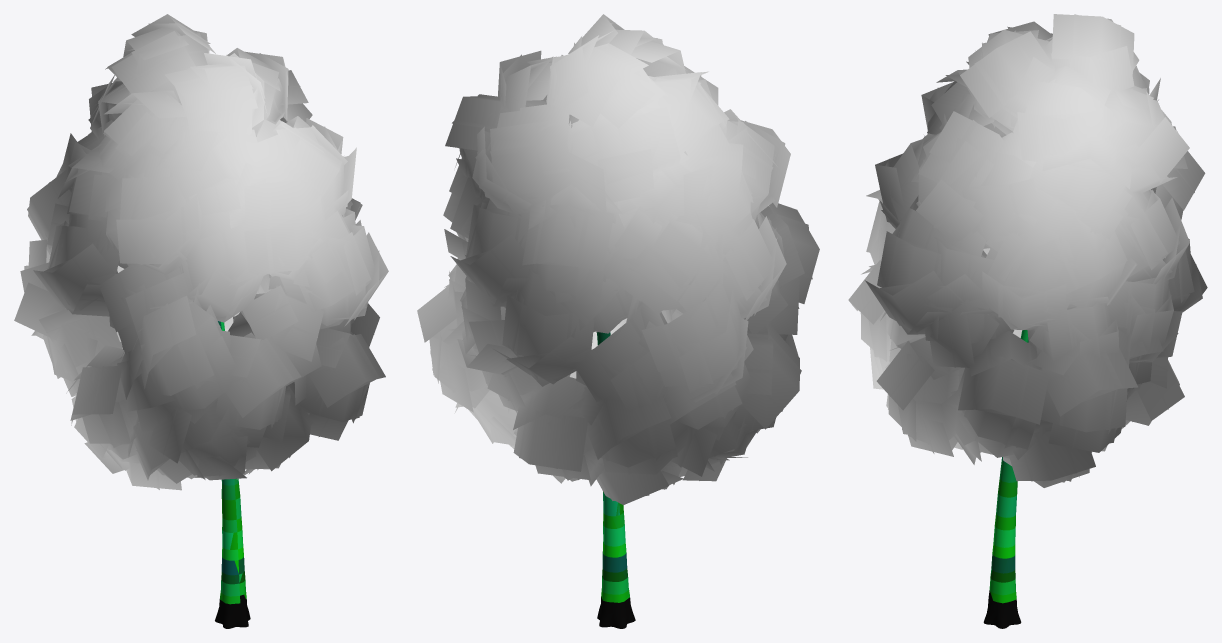
The model's file is SM_tree_birch_03.fbx.
3 renders of one model, left to right at view 1: azimuth 30°, elevation 25°; view 2: azimuth 150°, elevation 25°; view 3: azimuth 270°, elevation 25°, orthographic. The views are drawn at different scales.
Visible parts, largest first — view 1: _142431; view 2: _142431; view 3: _142431.
Part boxes in pixels (x1,y1,x2,y2): _142431: [14, 14, 388, 628]; _142431: [417, 14, 819, 628]; _142431: [848, 14, 1207, 628].
Bounding box in the file's own units: 98.19 × 174 × 94.82.
